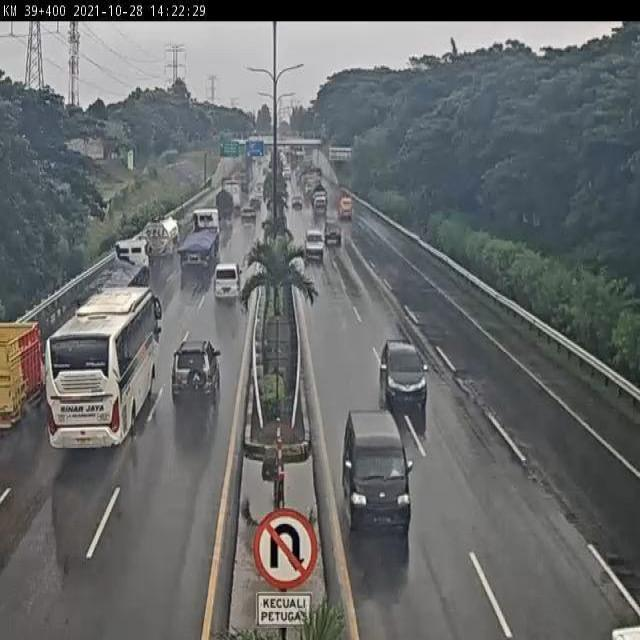bus-l-: (44, 287, 162, 452)
car: (340, 404, 414, 539), (378, 336, 429, 412), (169, 338, 222, 406), (211, 260, 244, 305), (303, 230, 325, 262), (324, 220, 344, 243)
truck-m-: (142, 211, 182, 260)
truck-s-: (0, 321, 47, 431)
truck-xl-: (68, 241, 146, 324), (173, 207, 221, 274)
